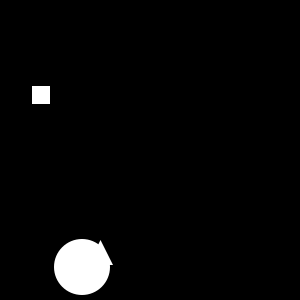circle: (32, 86, 50, 104)
rectangle: (54, 239, 110, 295)
triangle: (88, 240, 113, 265)
